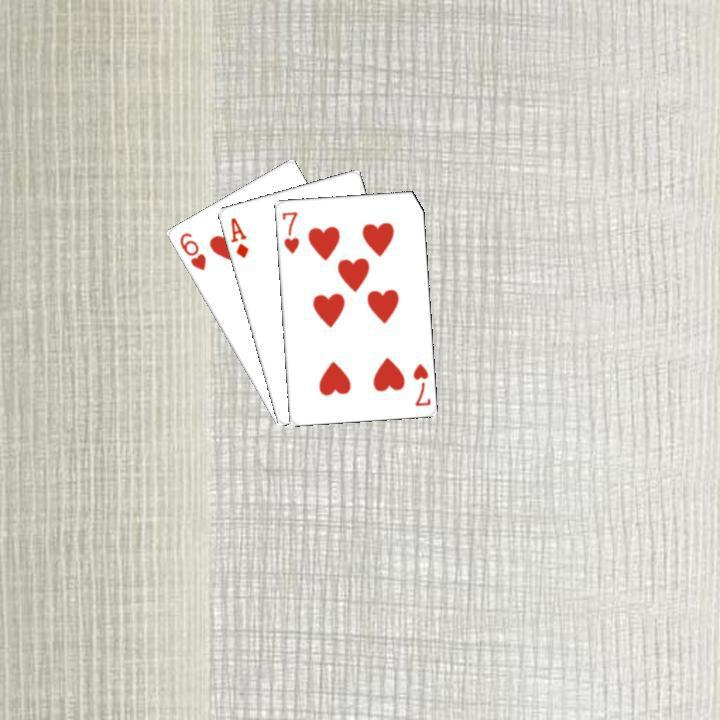6: (175, 228, 208, 272)
7: (408, 359, 432, 408), (277, 207, 301, 255)
A: (226, 213, 250, 260)
